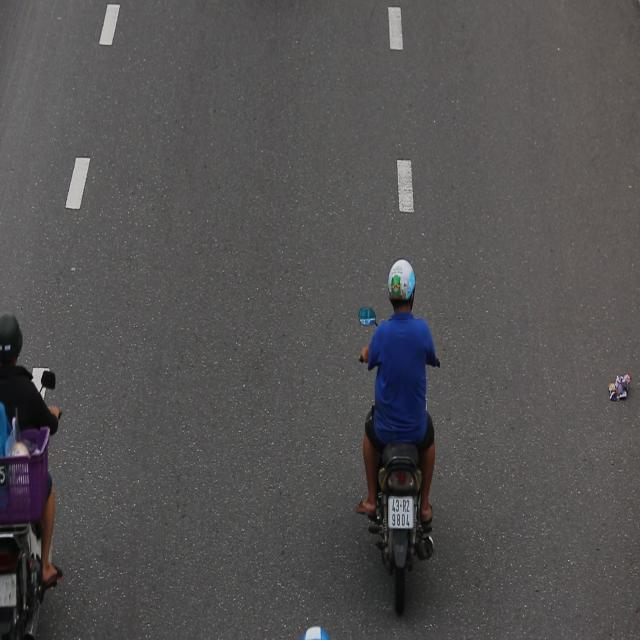motorbike: (344, 257, 441, 626)
